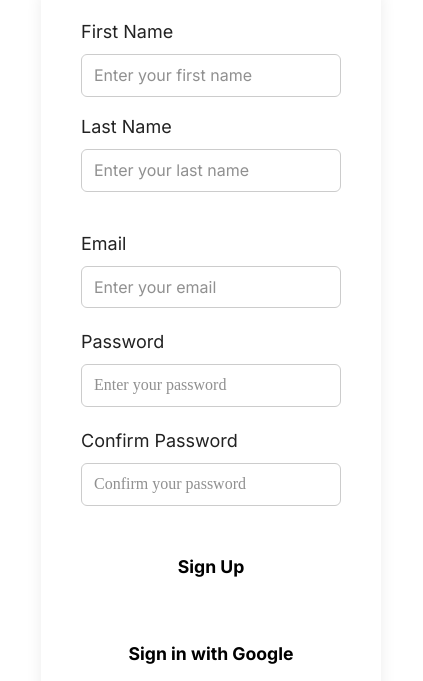
Test case: Login Component › shows close button on toast messages
(page scrolled)
Click the button "Sign Up": [211, 567] box [81,542,341,593]
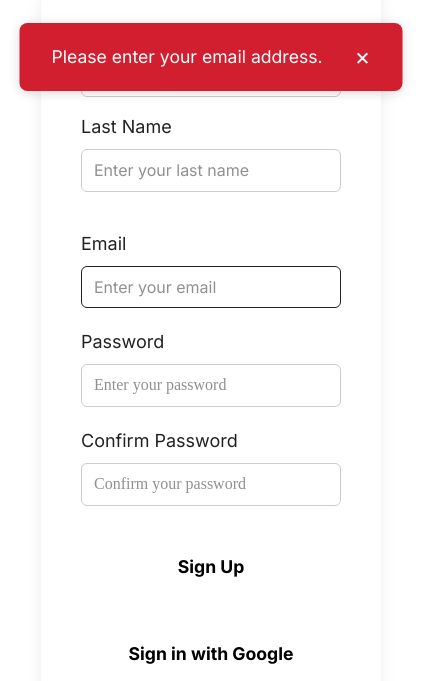
Expected: the text "Please enter your email address." is shown, [52,44,323,70]
Expected: the button named "Close" is shown
Click the button named "Close": [363, 57] box [355,39,370,75]
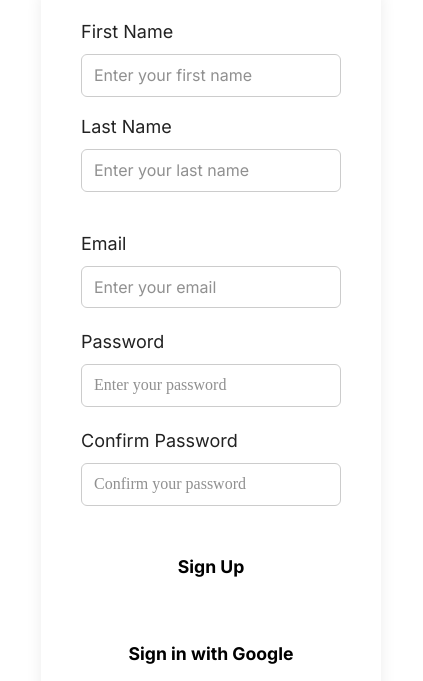
Expected: the text "Please enter your email address" is gone
